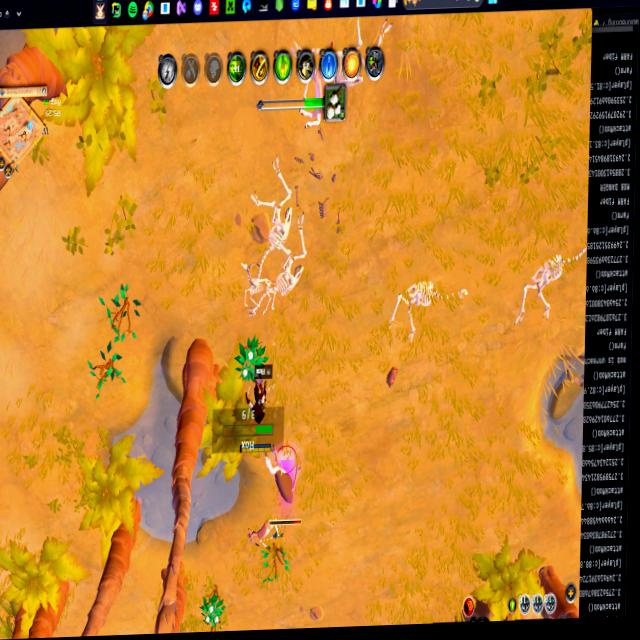hide: (237, 334, 268, 387), (202, 588, 226, 631)
ore: (263, 439, 305, 531)
red: (242, 370, 274, 455)
